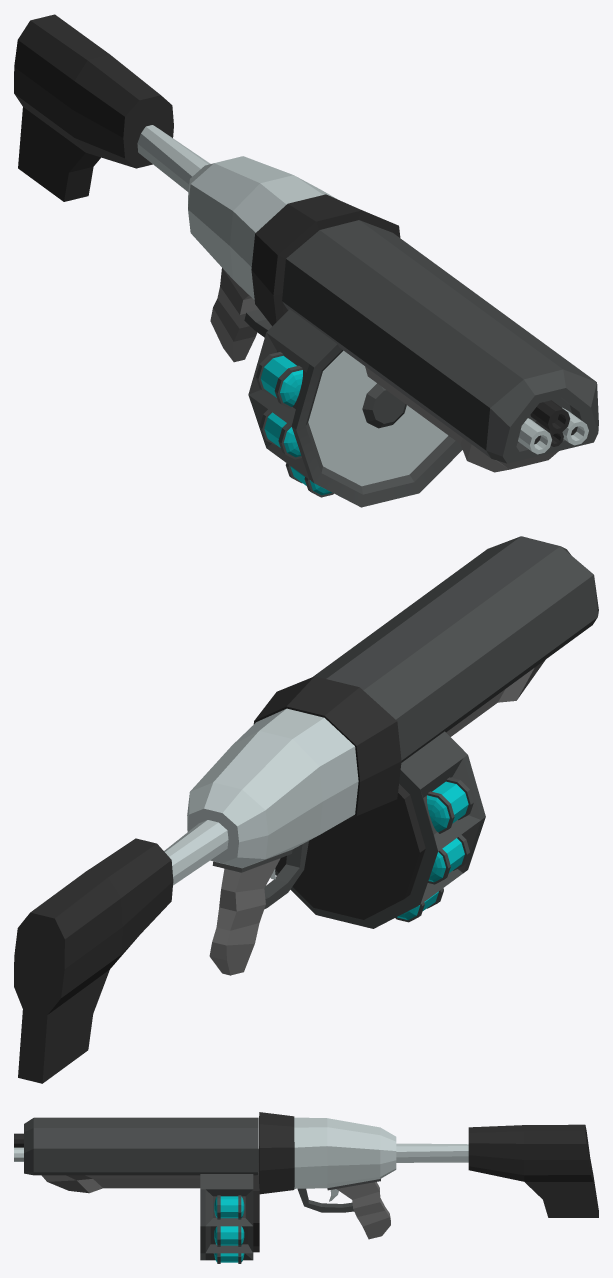
The model's file is Shotgun_D.fbx.
The picture shows the model from 3 angles, top to bottom: view 1: azimuth 30°, elevation 25°; view 2: azimuth 150°, elevation 25°; view 3: azimuth 270°, elevation 25°; orthographic projection. The views are drawn at different scales.
Visible parts, largest first — view 1: pCylinder144, pCylinder143, pCylinder142, pCube67, pSphere61, pSphere62, pCylinder146, pCylinder148; view 2: pCylinder144, pCylinder143, pCylinder142, pSphere61, pCube70, pSphere62, pCube67; view 3: pCylinder144, pCylinder143, pCylinder142, pCube67, pSphere51, pSphere54, pCube70, pSphere56.
Part boxes in pixels (bbox=[...]): pCylinder144: bbox=[14, 14, 400, 362]; pCylinder143: bbox=[282, 220, 598, 463]; pCylinder142: bbox=[248, 309, 462, 507]; pCube67: bbox=[365, 366, 558, 472]; pSphere61: bbox=[256, 352, 302, 408]; pSphere62: bbox=[259, 409, 301, 459]; pCylinder146: bbox=[530, 400, 570, 433]; pCylinder148: bbox=[518, 418, 551, 454]; pCylinder144: bbox=[14, 676, 401, 1083]; pCylinder143: bbox=[313, 536, 598, 762]; pCylinder142: bbox=[275, 731, 485, 928]; pSphere61: bbox=[427, 777, 473, 833]; pCube70: bbox=[264, 841, 308, 909]; pSphere62: bbox=[428, 834, 469, 884]; pCube67: bbox=[446, 659, 545, 736]; pCylinder144: bbox=[259, 1112, 598, 1239]; pCylinder143: bbox=[24, 1117, 258, 1175]; pCylinder142: bbox=[200, 1149, 259, 1260]; pCube67: bbox=[41, 1172, 258, 1193]; pSphere51: bbox=[214, 1195, 244, 1219]; pSphere54: bbox=[214, 1226, 244, 1246]; pCube70: bbox=[297, 1188, 354, 1212]; pSphere56: bbox=[214, 1253, 244, 1263].
Size of the model in its own units: 4.91 by 23.25 by 6.09.
